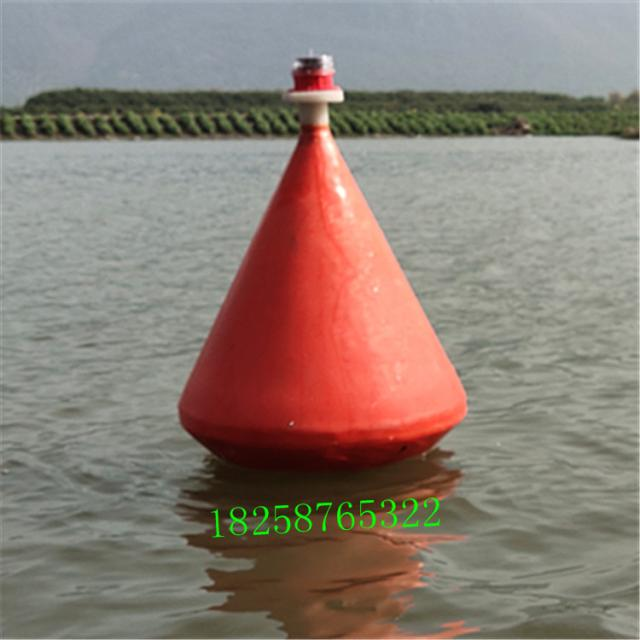buoy: (176, 46, 470, 467)
